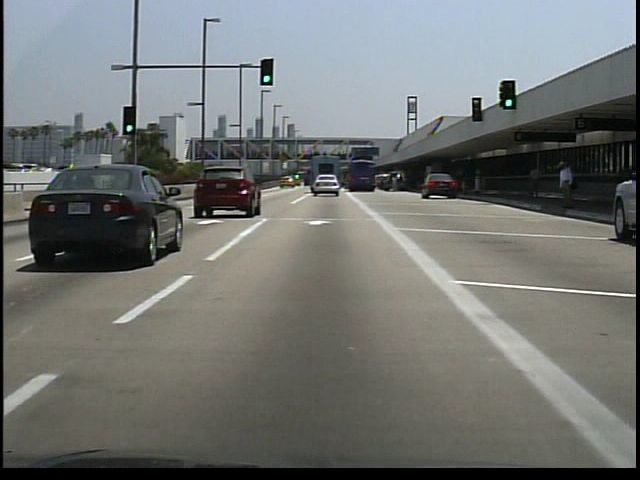person: (554, 156, 574, 213), (524, 157, 545, 205)
